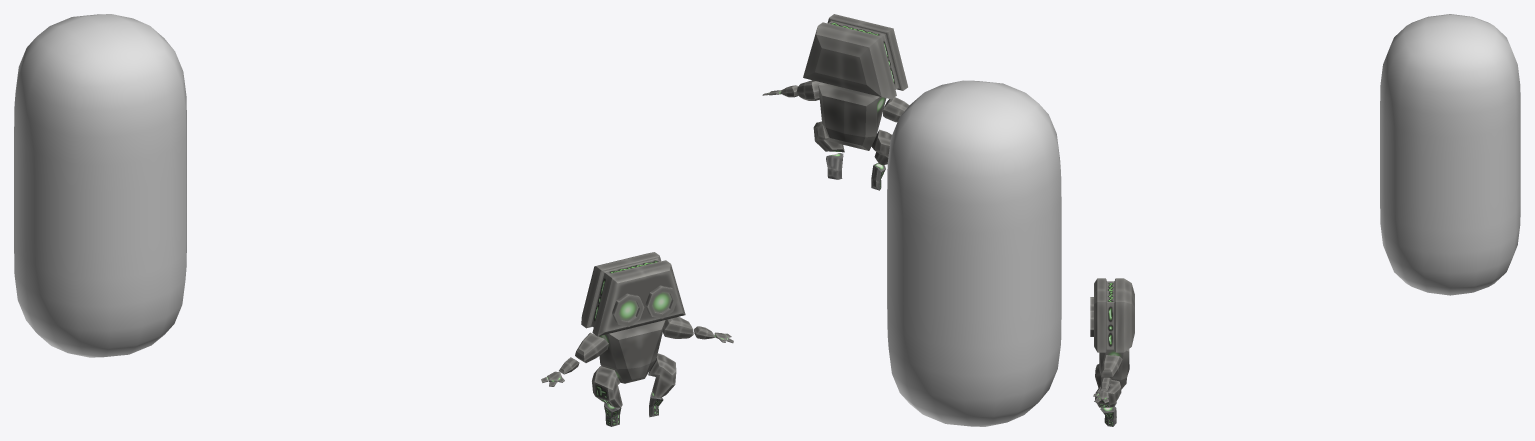
File: m_KraxTexturedRevision1.fbx
The picture shows the model from 3 angles, left to right: view 1: azimuth 30°, elevation 25°; view 2: azimuth 150°, elevation 25°; view 3: azimuth 270°, elevation 25°; orthographic projection. The views are drawn at different scales.
Visible parts, largest first — view 1: Player Ref, Head, Body, Thigh, Circle, Arm; view 2: Player Ref, Head, Body, Thigh, Arm, Feet; view 3: Player Ref, Head, Body, Thigh.
Boxes of the visible parts, left/top/right/bottom form: Player Ref: left=14, top=14, right=186, bottom=357; Head: left=581, top=252, right=685, bottom=336; Body: left=599, top=320, right=665, bottom=383; Thigh: left=592, top=353, right=676, bottom=407; Circle: left=612, top=285, right=677, bottom=326; Arm: left=575, top=316, right=693, bottom=362; Player Ref: left=887, top=80, right=1061, bottom=426; Head: left=803, top=14, right=907, bottom=99; Body: left=818, top=82, right=886, bottom=150; Thigh: left=813, top=121, right=891, bottom=165; Arm: left=796, top=80, right=909, bottom=122; Feet: left=826, top=153, right=885, bottom=190; Player Ref: left=1380, top=14, right=1520, bottom=295; Head: left=1094, top=278, right=1134, bottom=352; Body: left=1099, top=349, right=1129, bottom=389; Thigh: left=1095, top=364, right=1121, bottom=407.
Bounding box in the file's own units: 304 × 190 × 280.
Materials: 5 (5 with a texture image).
